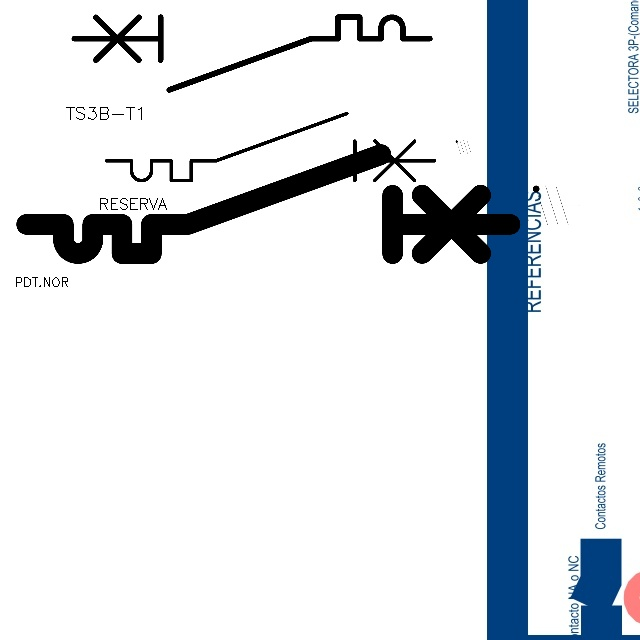interruptor_termomagnetico: (14, 142, 522, 266), (65, 8, 439, 99), (98, 105, 443, 189)
